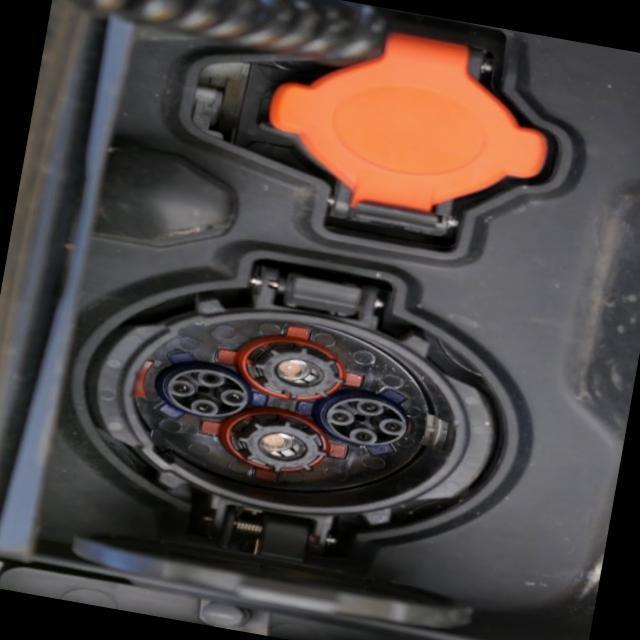CHAdeMO: (103, 254, 499, 552)
